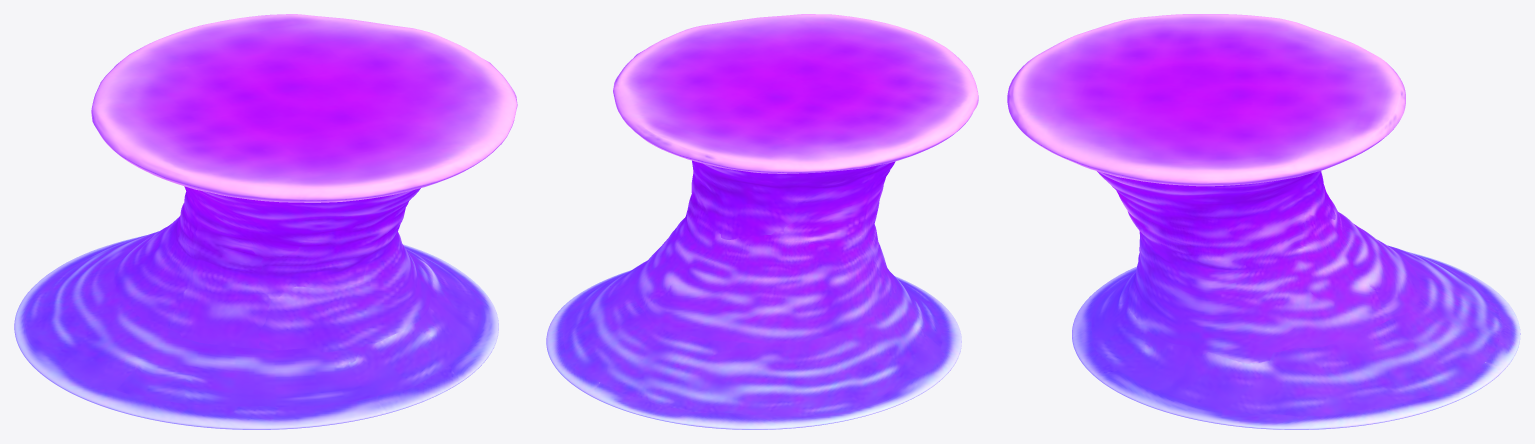
The model's file is MZ4250 - Floating Disk_alt.glb.
3 views of the same model, side by side, from view 1: azimuth 30°, elevation 25°; view 2: azimuth 150°, elevation 25°; view 3: azimuth 270°, elevation 25° (orthographic). The views are drawn at different scales.
Parts seen in each view (by area): view 1: Medium Creature.001; view 2: Medium Creature.001; view 3: Medium Creature.001.
Part boxes in pixels (<box>): Medium Creature.001: <box>14,14,517,429</box>; Medium Creature.001: <box>546,14,978,429</box>; Medium Creature.001: <box>1007,14,1520,429</box>.
Bounding box in the file's own units: 0.739 × 0.442 × 0.845.
1 material, 1 textured.
